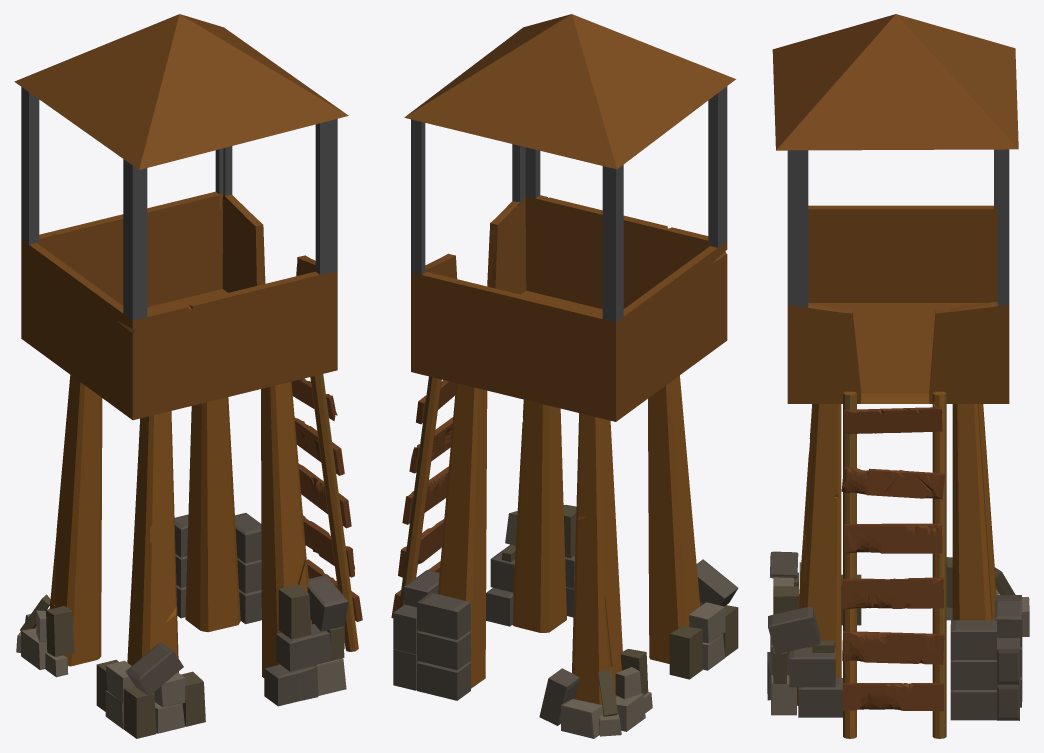
The model's file is ArcherTowerLvl2.fbx.
3 views of the same model, side by side, from view 1: azimuth 30°, elevation 25°; view 2: azimuth 150°, elevation 25°; view 3: azimuth 270°, elevation 25° (orthographic).
Visible parts, largest first — view 1: ArcherTower; view 2: ArcherTower; view 3: ArcherTower.
Boxes of the visible parts, x1,y1,x2,y2 form: ArcherTower: [14, 14, 362, 738]; ArcherTower: [391, 14, 738, 738]; ArcherTower: [767, 14, 1029, 738].
Bounding box in the file's own units: 193 × 459 × 168.
